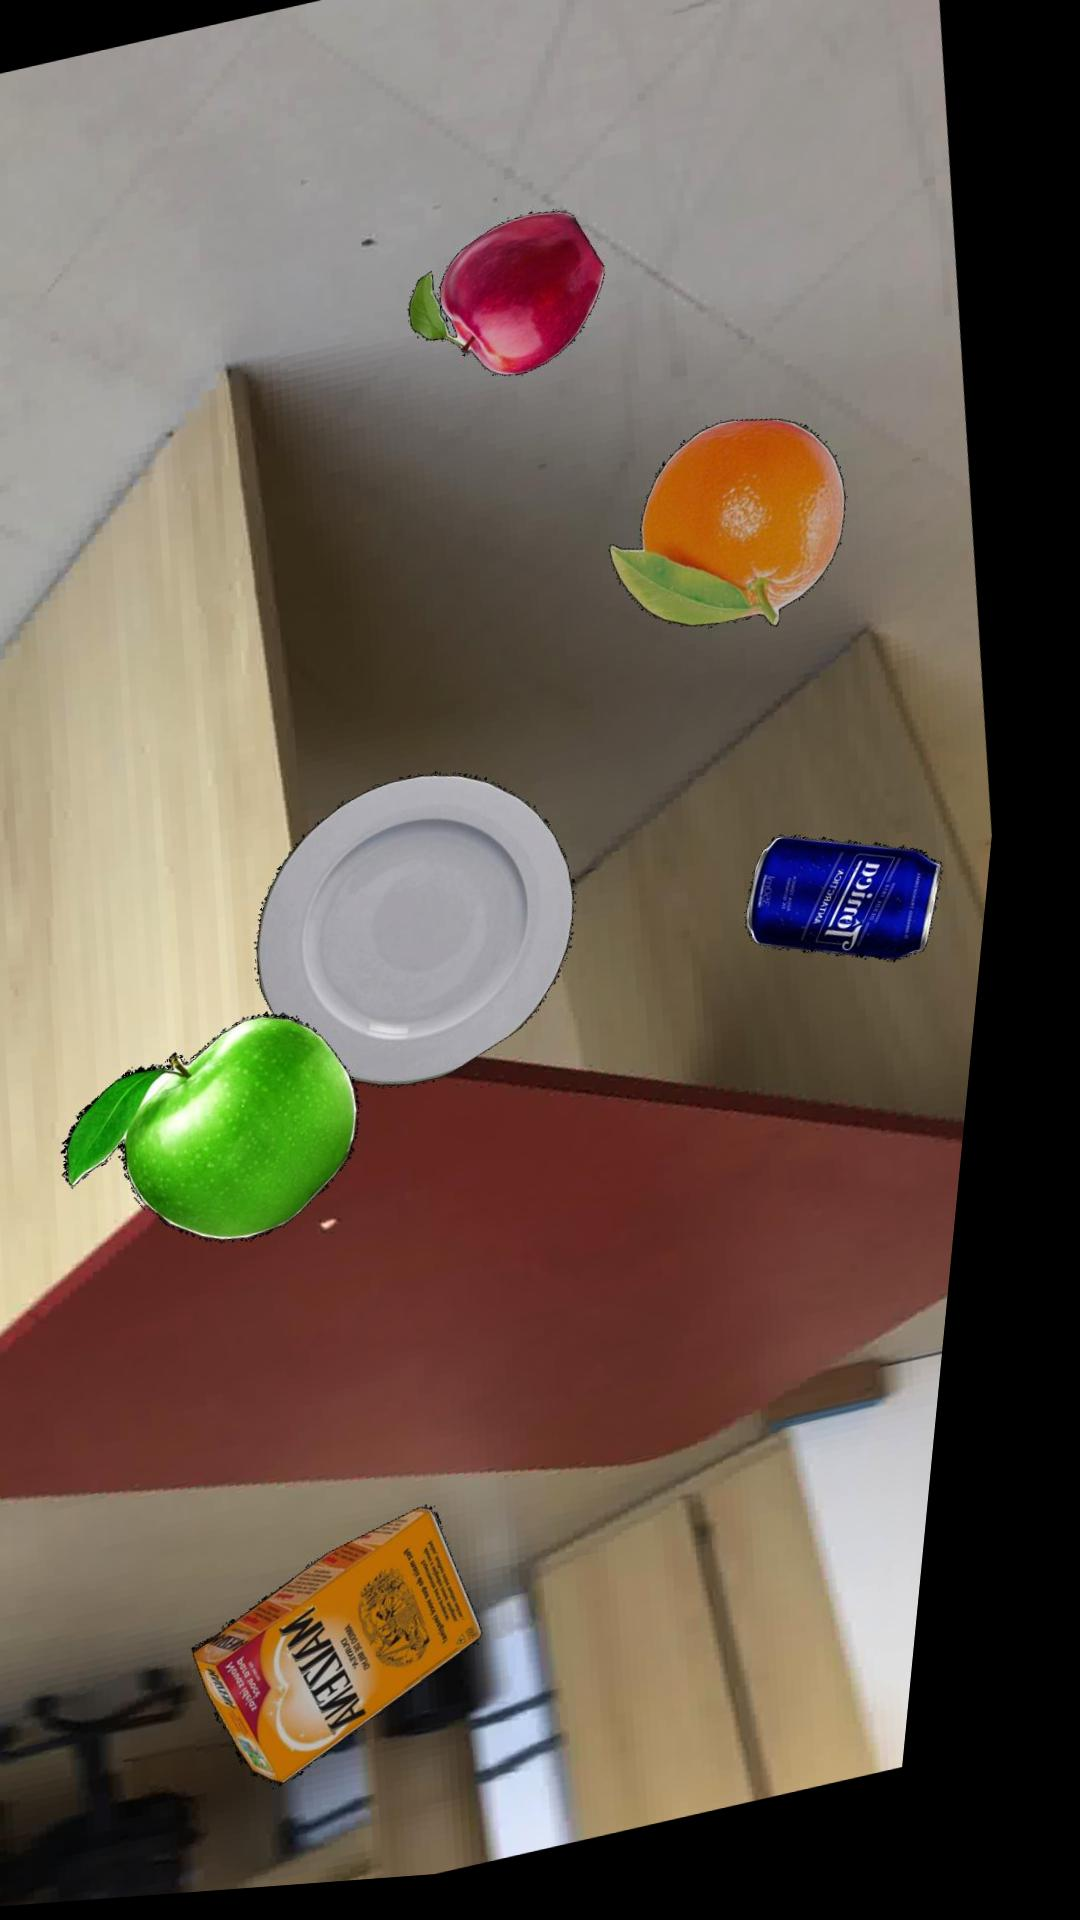apple: (414, 220, 612, 384)
green apple: (84, 1017, 384, 1246)
orange: (621, 431, 857, 640)
plate: (274, 782, 593, 1093)
tonic: (766, 849, 963, 977)
